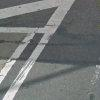Crosswalk: (3, 9, 42, 99)
